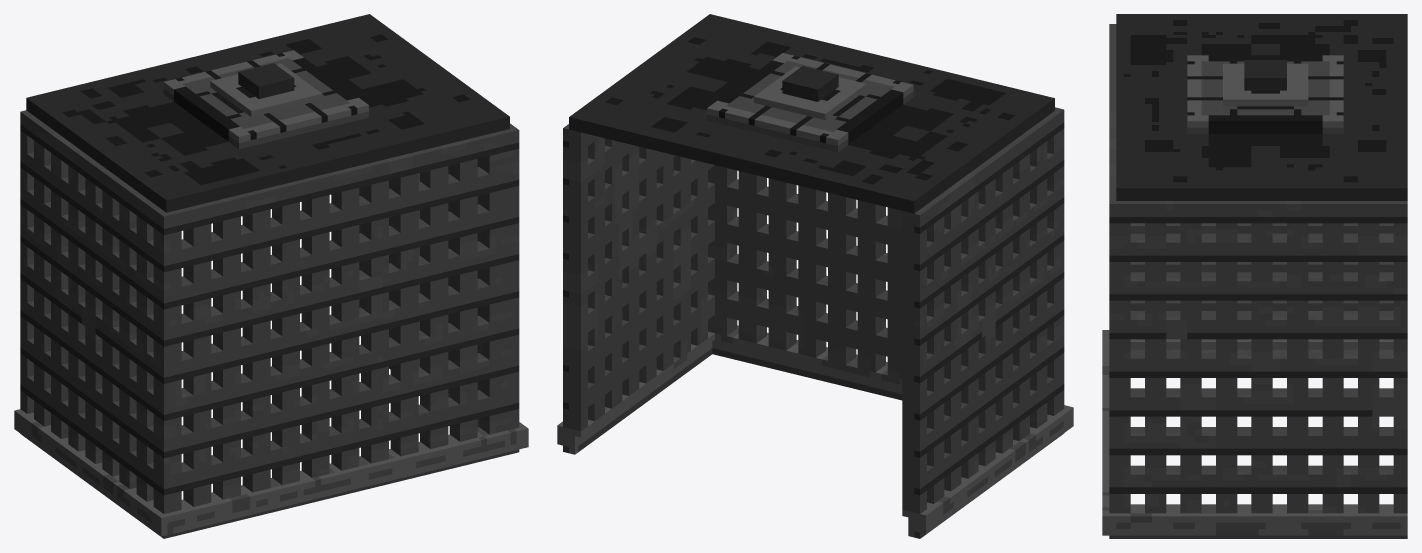
File: Gefängniss.obj
3 renders of one model, left to right at view 1: azimuth 30°, elevation 25°; view 2: azimuth 150°, elevation 25°; view 3: azimuth 270°, elevation 25°, orthographic. The views are drawn at different scales.
Bounding box in the file's own units: 6.2 × 5.9 × 4.3.
1 material, 1 textured.
